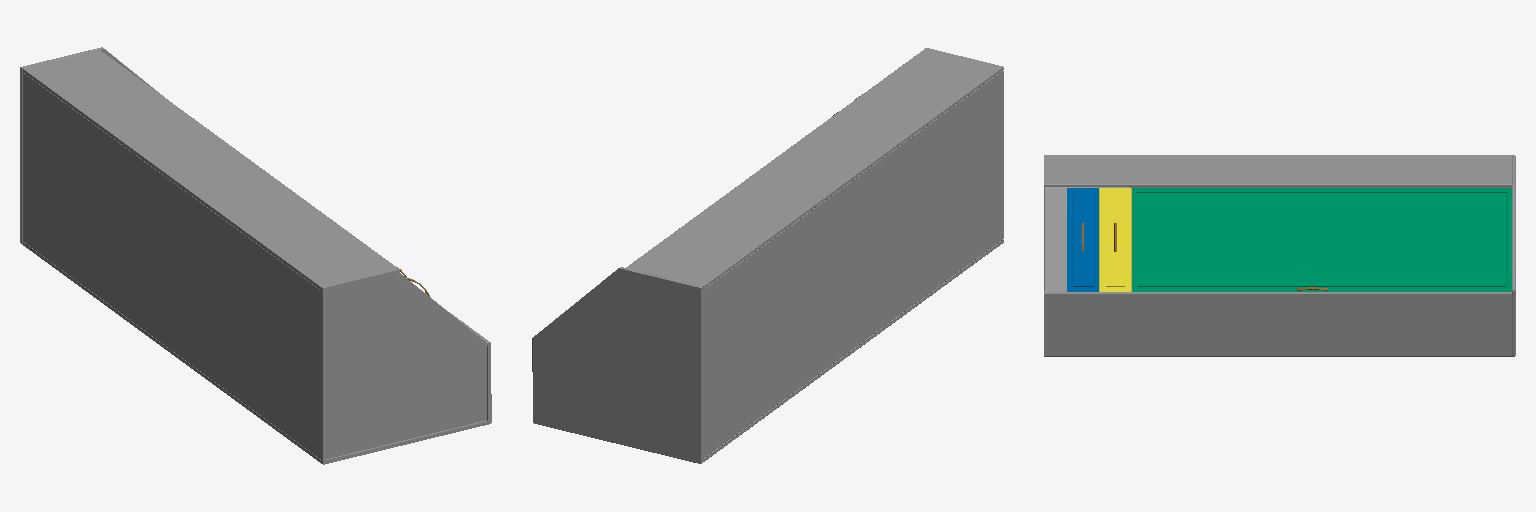
The robot description file, URDF, robot "391":
<robot name="391">


	<link name="0:virtual">
		<visual>
			<origin xyz="0.0 0.0 0.0" rpy="0 0 0"/>
			<geometry>
				<cylinder length="0" radius="0"/>
			</geometry>
		</visual>
	</link>


	<link name="1:static">
		<visual>
			<origin xyz="-0.0 -0.0 -0.0" rpy="0 0 0"/>
			<geometry>
				<mesh filename="../raw_data/391/part_meshes/1.dae" />
			</geometry>
		</visual>
	</link>


	<link name="2:cabinet door 1">
		<visual>
			<origin xyz="0.013735150152780928 -2.220249891281128 -0.3643404869342153" rpy="0 0 0"/>
			<geometry>
				<mesh filename="../raw_data/391/part_meshes/2.dae" />
			</geometry>
		</visual>
	</link>


	<link name="3:drawer 1">
		<visual>
			<origin xyz="0.09516427973521974 -0.3334130048751831 0.09530057394762842" rpy="0 0 0"/>
			<geometry>
				<mesh filename="../raw_data/391/part_meshes/3.dae" />
			</geometry>
		</visual>
	</link>


	<link name="4:drawer 2">
		<visual>
			<origin xyz="0.09516386722553766 -0.17990099638700485 0.09530070400845894" rpy="0 0 0"/>
			<geometry>
				<mesh filename="../raw_data/391/part_meshes/4.dae" />
			</geometry>
		</visual>
	</link>


	<joint name="0:virtual::1:static" type="fixed">
		<parent link="0:virtual"/>
		<child link="1:static"/>
		<origin xyz="0.0 0.0 0.0" rpy="0 0 0"/>
	</joint>


	<joint name="0:virtual::2:cabinet door 1_rotation" type="revolute">
		<parent link="0:virtual"/>
		<child link="2:cabinet door 1"/>
		<origin xyz="-0.013735150152780928 2.220249891281128 0.3643404869342153" rpy="0 0 0"/>
		<limit lower="-1.5550883635269477" upper="0.12566370614359174" effort="10" velocity="3"/>
		<axis xyz="0.0 1.0 0.0"/>
	</joint>


	<joint name="0:virtual::3:drawer 1_translation" type="prismatic">
		<parent link="0:virtual"/>
		<child link="3:drawer 1"/>
		<origin xyz="-0.09516427973521974 0.3334130048751831 -0.09530057394762842" rpy="0 0 0"/>
		<limit lower="-0.0004969672892222" upper="0.333503032710778" effort="10" velocity="3"/>
		<axis xyz="0.7067019293215732 0.0 0.7075114013874025"/>
	</joint>


	<joint name="0:virtual::4:drawer 2_translation" type="prismatic">
		<parent link="0:virtual"/>
		<child link="4:drawer 2"/>
		<origin xyz="-0.09516386722553766 0.17990099638700485 -0.09530070400845894" rpy="0 0 0"/>
		<limit lower="-0.0004969672892222" upper="0.333503032710778" effort="10" velocity="3"/>
		<axis xyz="0.7067019465164578 0.0 0.7075113842121904"/>
	</joint>


</robot>

--- What the picture shows (computed from the rendered views, not written in the file) ---
The picture shows the robot from 3 angles, left to right: view 1: azimuth 30°, elevation 25°; view 2: azimuth 150°, elevation 25°; view 3: azimuth 270°, elevation 25°; orthographic projection.
Model 391 with 5 links and 4 joints (1 revolute, 2 prismatic, 1 fixed), rooted at 0:virtual, posed all joints at 0.
Links seen in each view (by area): view 1: 1:static; view 2: 1:static; view 3: 1:static, 2:cabinet door 1, 3:drawer 1, 4:drawer 2.
Boxes of the visible links, x1,y1,x2,y2 form: 1:static: (20,47,491,464); 1:static: (532,48,1003,463); 1:static: (1044,155,1515,356); 2:cabinet door 1: (1132,188,1511,291); 3:drawer 1: (1098,187,1131,291); 4:drawer 2: (1067,187,1098,291).
Size in the robot's own frame: 0.7197 by 2.24 by 0.7198 metres.
Meshes: 4 distinct files referenced, 4 mesh visuals loaded (4 Collada DAE).